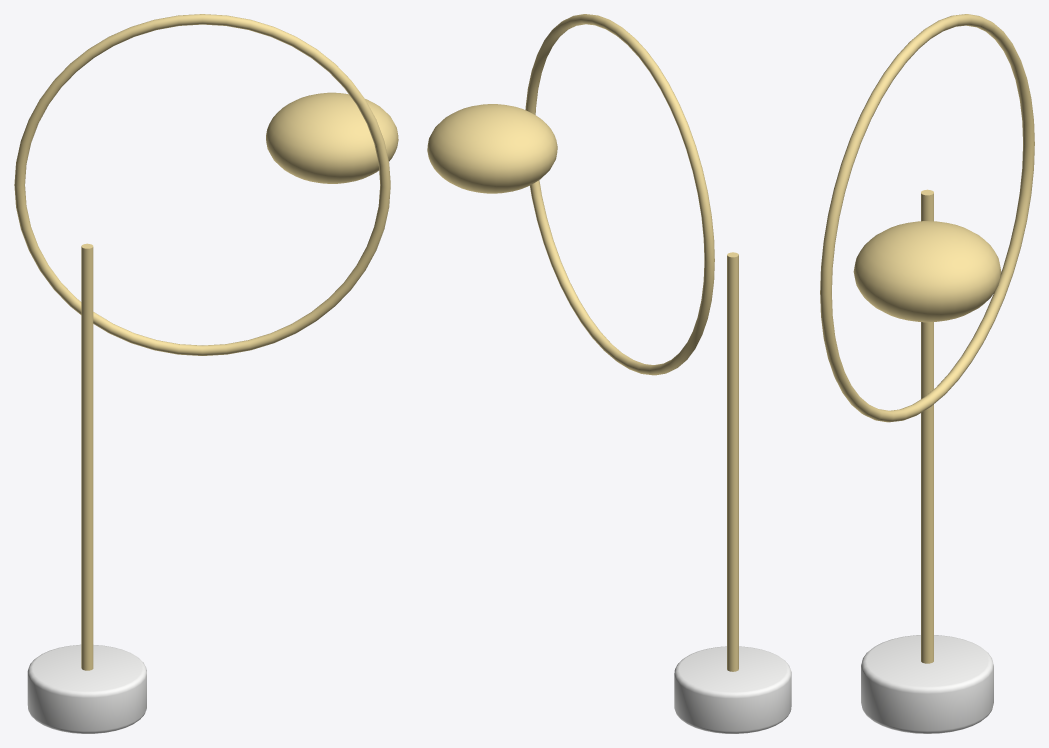
Rendered from brass-arc-floor-lamp.glb.
3 renders of one model, left to right at view 1: azimuth 30°, elevation 25°; view 2: azimuth 150°, elevation 25°; view 3: azimuth 270°, elevation 25°, orthographic. The views are drawn at different scales.
Parts seen in each view (by area): view 1: lamp_CurvedArcArm, lamp_MarbleCylinderBase, lamp_SpunBrassDome, lamp_VerticalBrassPole; view 2: lamp_SpunBrassDome, lamp_MarbleCylinderBase, lamp_CurvedArcArm, lamp_VerticalBrassPole; view 3: lamp_CurvedArcArm, lamp_SpunBrassDome, lamp_MarbleCylinderBase, lamp_VerticalBrassPole.
Boxes of the visible parts, x1,y1,x2,y2 form: lamp_CurvedArcArm: (14, 14, 390, 355); lamp_MarbleCylinderBase: (27, 644, 146, 733); lamp_SpunBrassDome: (266, 92, 398, 183); lamp_VerticalBrassPole: (81, 243, 93, 670); lamp_SpunBrassDome: (427, 104, 557, 193); lamp_MarbleCylinderBase: (674, 646, 791, 733); lamp_CurvedArcArm: (525, 14, 714, 375); lamp_VerticalBrassPole: (727, 252, 738, 671); lamp_CurvedArcArm: (820, 14, 1034, 422); lamp_SpunBrassDome: (853, 221, 1001, 322); lamp_MarbleCylinderBase: (861, 635, 993, 733); lamp_VerticalBrassPole: (921, 189, 933, 663).
Bounding box in the file's own units: 1.23 × 2.22 × 0.582.
